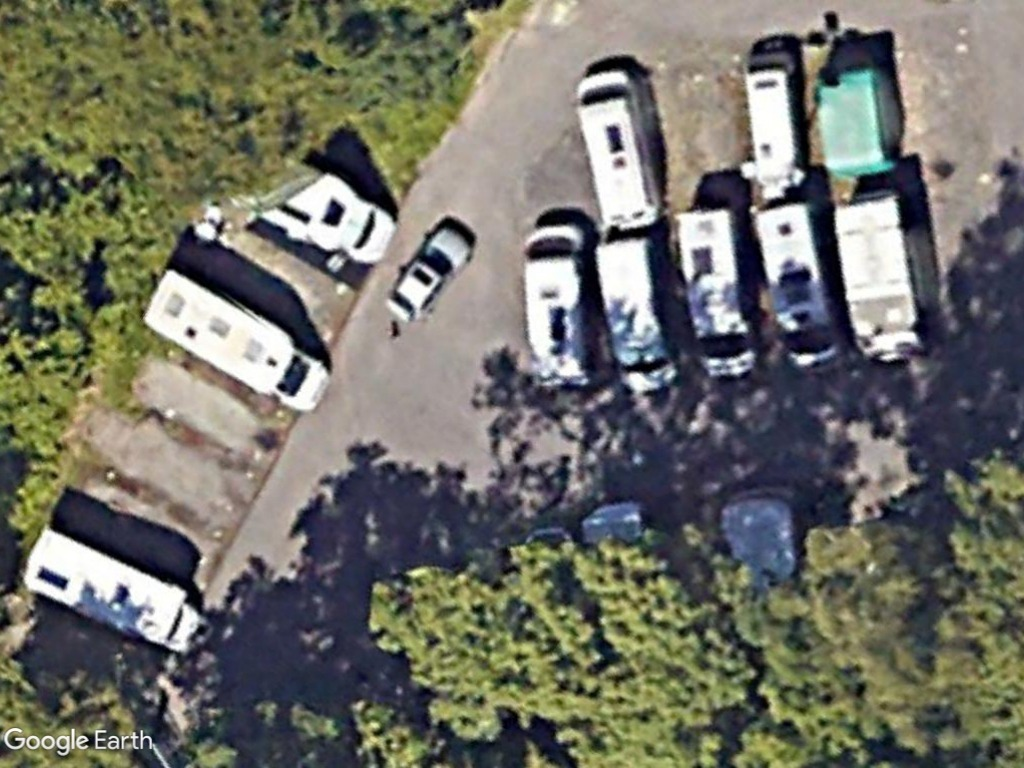car: (382, 221, 472, 325)
truck: (135, 266, 337, 416), (14, 521, 210, 658), (829, 190, 934, 368)
van: (669, 204, 758, 379), (754, 202, 844, 372), (571, 69, 662, 234), (590, 232, 680, 393), (519, 221, 598, 391), (740, 47, 803, 188)
